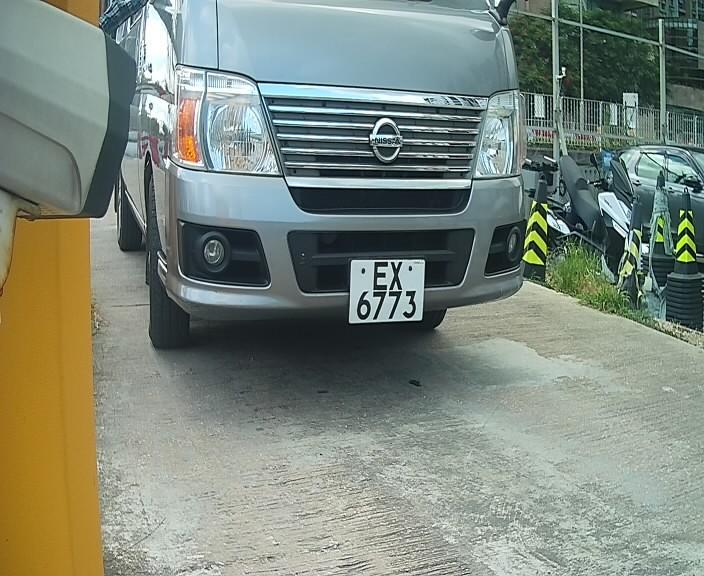License Plate: (337, 253, 434, 330)
